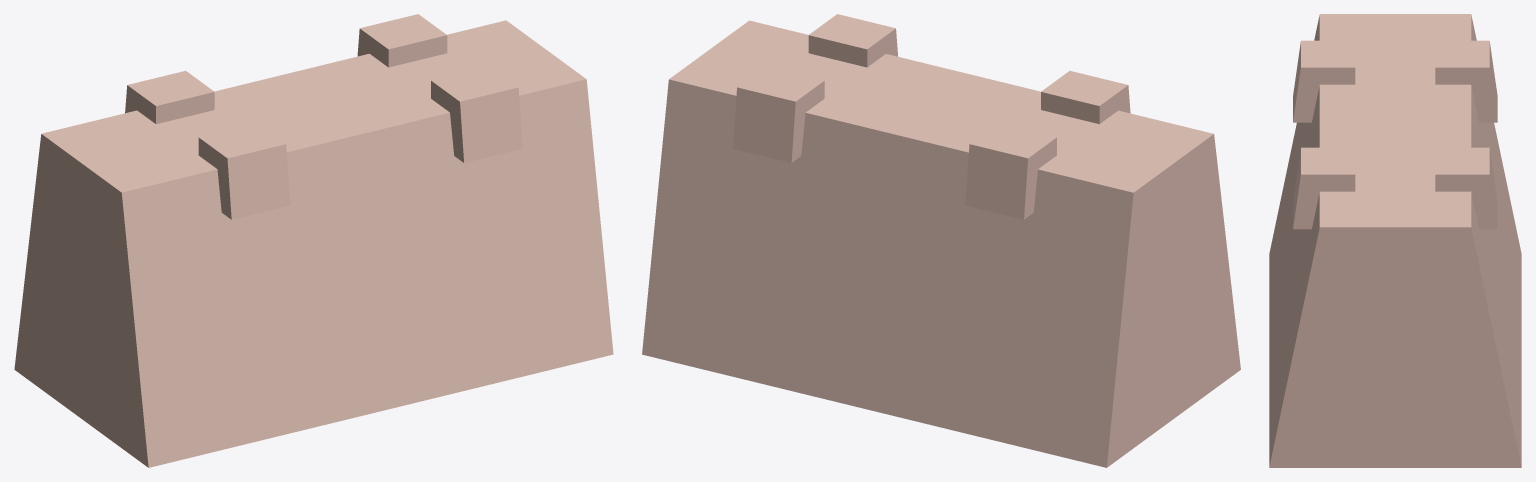
3 renders of one model, left to right at view 1: azimuth 30°, elevation 25°; view 2: azimuth 150°, elevation 25°; view 3: azimuth 270°, elevation 25°, orthographic. The views are drawn at different scales.
Parts seen in each view (by area): view 1: Object07; view 2: Object07; view 3: Object07.
Boxes of the visible parts, box(x1,y1,x2,y2) form: Object07: box(14, 14, 613, 467); Object07: box(642, 14, 1240, 467); Object07: box(1269, 14, 1521, 467).
Bounding box in the file's own units: 200 × 113 × 100.
